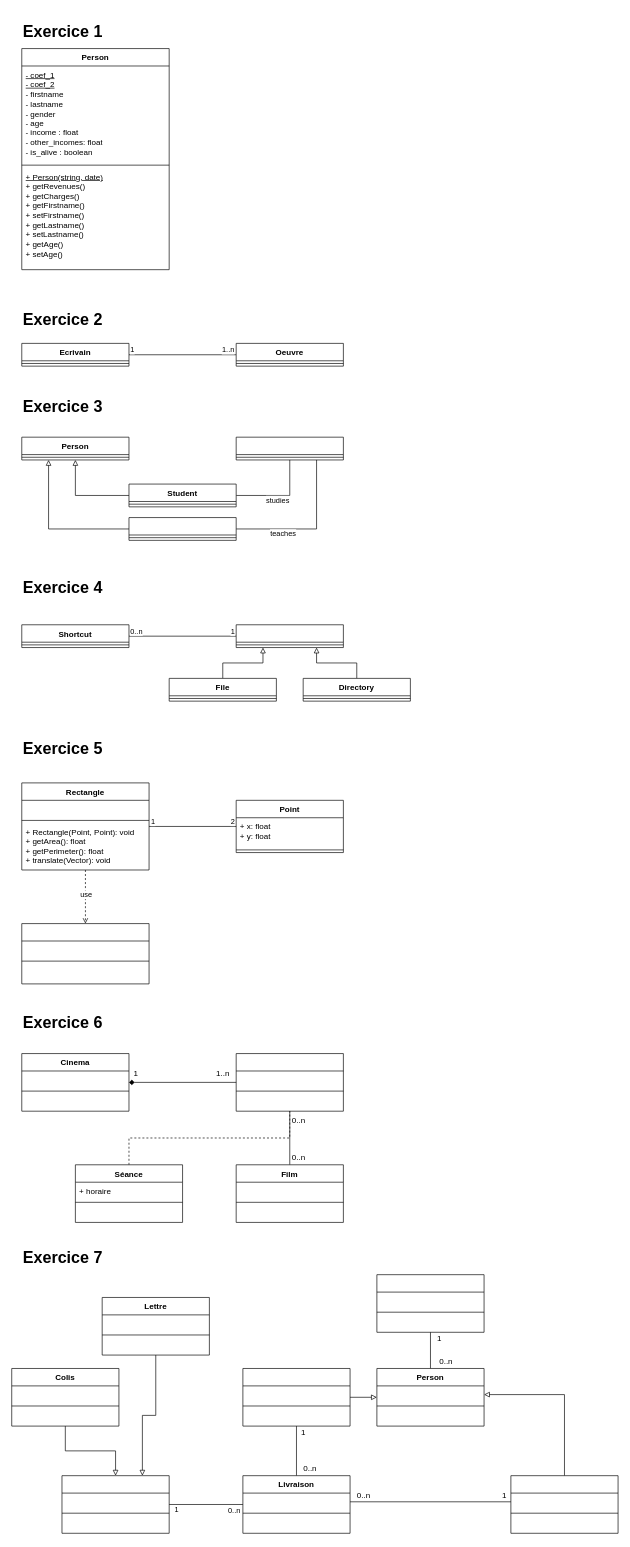
The diagram is 630 pixels wide and 1547 high, and some of its shapes have lost their labels. The centre of each missing label's shape, as x and y in pixels:
Facteur: (564,1504)
Item: (289,636)
Recommandé: (115,1504)
Resident: (296,1397)
Salle: (289,1082)
Teacher: (182,528)
University: (289,448)
Vector: (85,953)
Zone géo: (430,1303)
